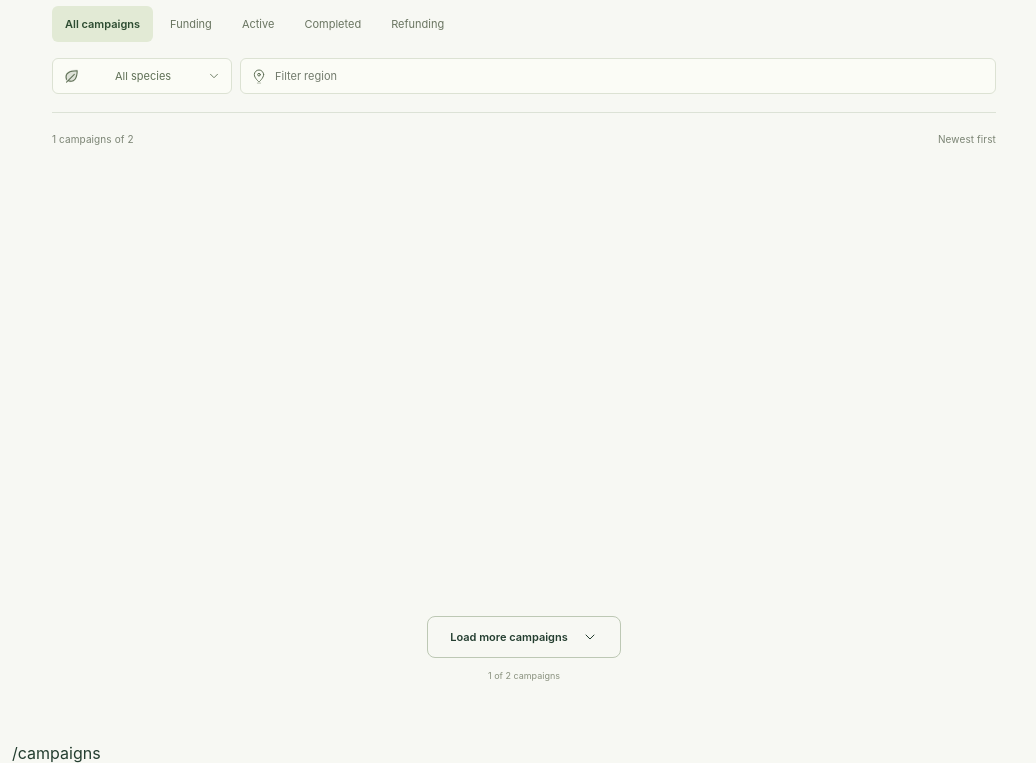
Scenario: S03 campaigns page › C-11: loads the next page with the cursor and appends it
The image size is (1036, 763).
(page scrolled)
Expected: the text "1 of 2 campaigns" is shown, [488, 670, 560, 680]
Click the button "Load more campaigns": (524,636) [427, 616, 621, 658]
(page scrolled)
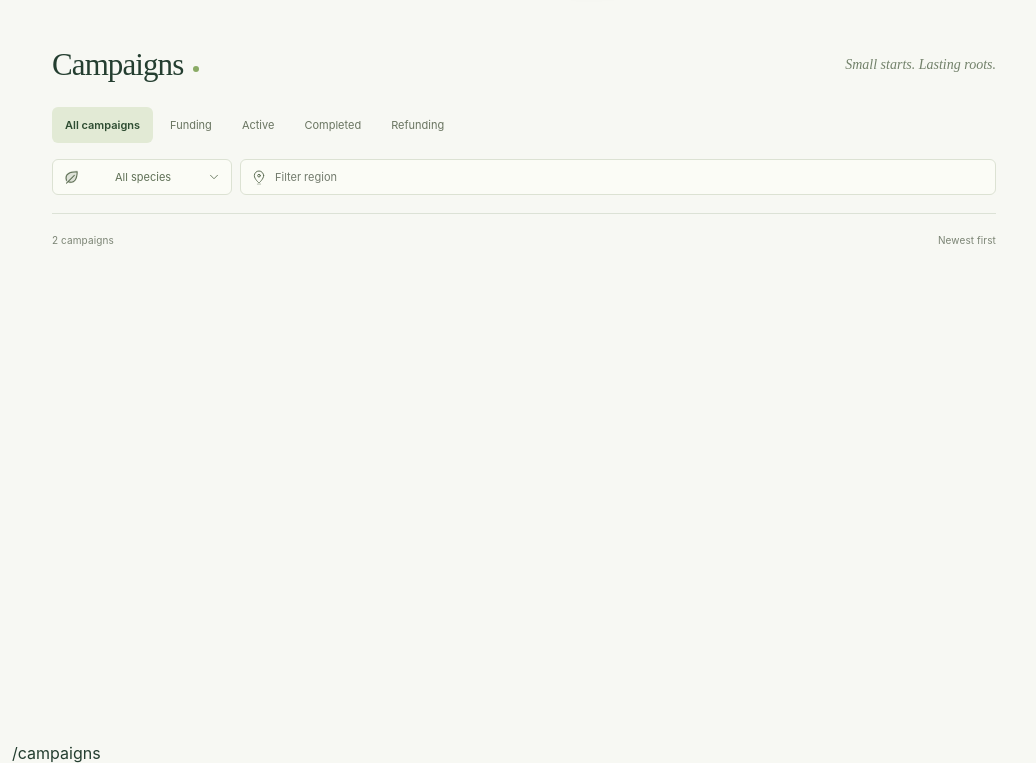
Expected: the button "Load more campaigns" is gone
